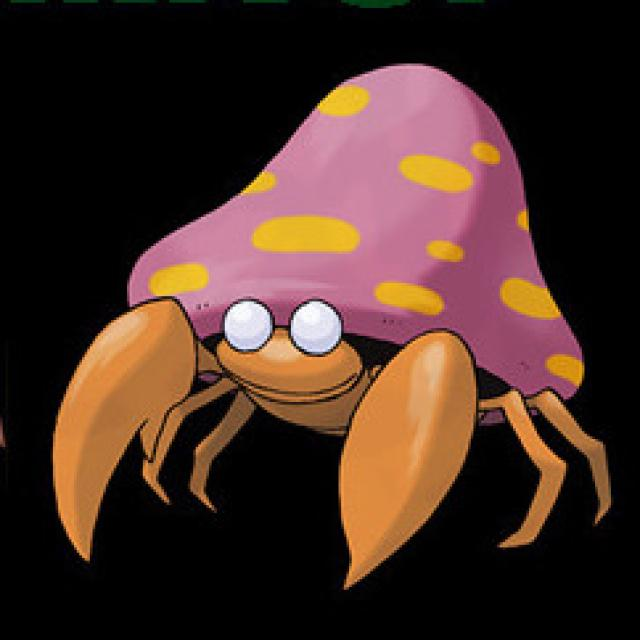Parasect: (71, 182, 567, 572)
